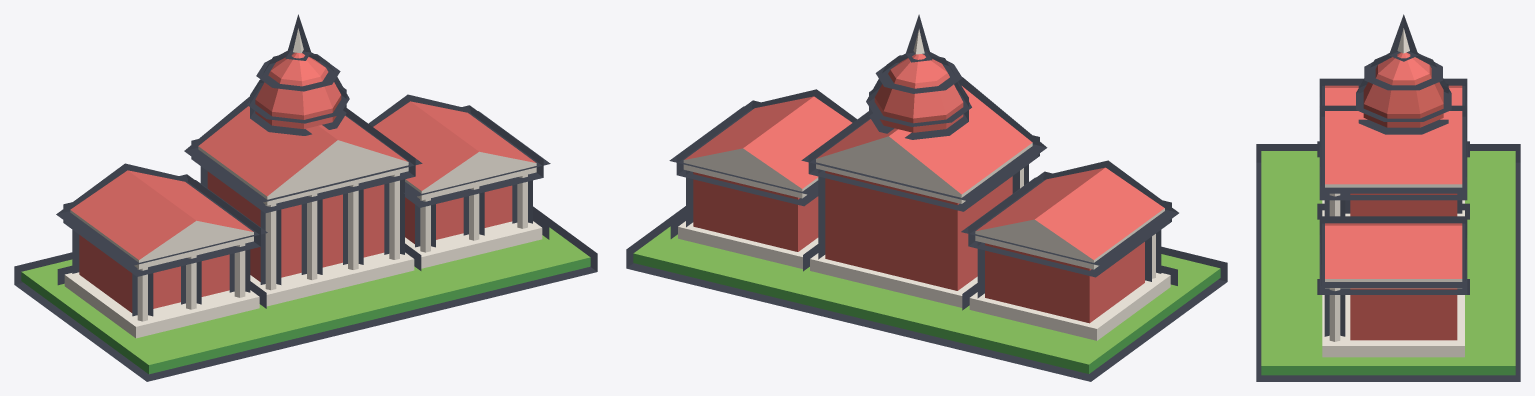
Rendered from skill_placevalue_hall_t3.glb.
3 views of the same model, side by side, from view 1: azimuth 30°, elevation 25°; view 2: azimuth 150°, elevation 25°; view 3: azimuth 270°, elevation 25° (orthographic). The views are drawn at different scales.
Parts seen in each view (by area): view 1: ink_outline (×5), wing_center, base, wing_left, wing_right, wing_dome; view 2: wing_center, ink_outline (×5), wing_left, base, wing_right, wing_dome; view 3: base, ink_outline (×5), wing_right, wing_center, wing_dome, wing_left.
Boxes of the visible parts, <box> form: ink_outline (×5): <box>14,14,597,381</box>; wing_center: <box>198,106,414,306</box>; base: <box>21,227,590,374</box>; wing_left: <box>64,170,259,338</box>; wing_right: <box>373,101,542,268</box>; wing_dome: <box>255,28,341,129</box>; wing_center: <box>810,86,1032,307</box>; ink_outline (×5): <box>626,14,1227,381</box>; wing_left: <box>969,167,1170,340</box>; base: <box>633,226,1220,373</box>; wing_right: <box>678,96,852,268</box>; wing_dome: <box>874,29,963,132</box>; base: <box>1261,151,1515,375</box>; ink_outline (×5): <box>1256,14,1520,381</box>; wing_right: <box>1322,223,1464,357</box>; wing_center: <box>1322,111,1464,216</box>; wing_dome: <box>1363,28,1443,127</box>; wing_left: <box>1322,85,1464,203</box>.
Bounding box in the file's own units: 2.04 × 1.12 × 1.04.
